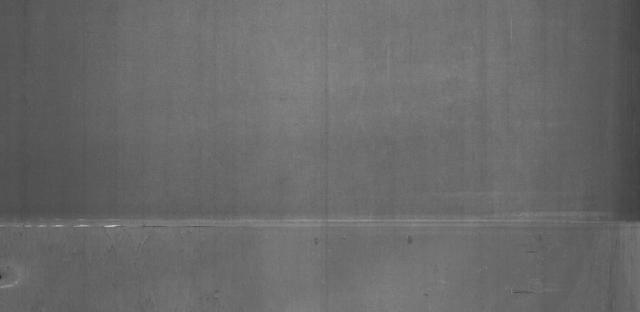welding_line: (2, 210, 640, 240)
